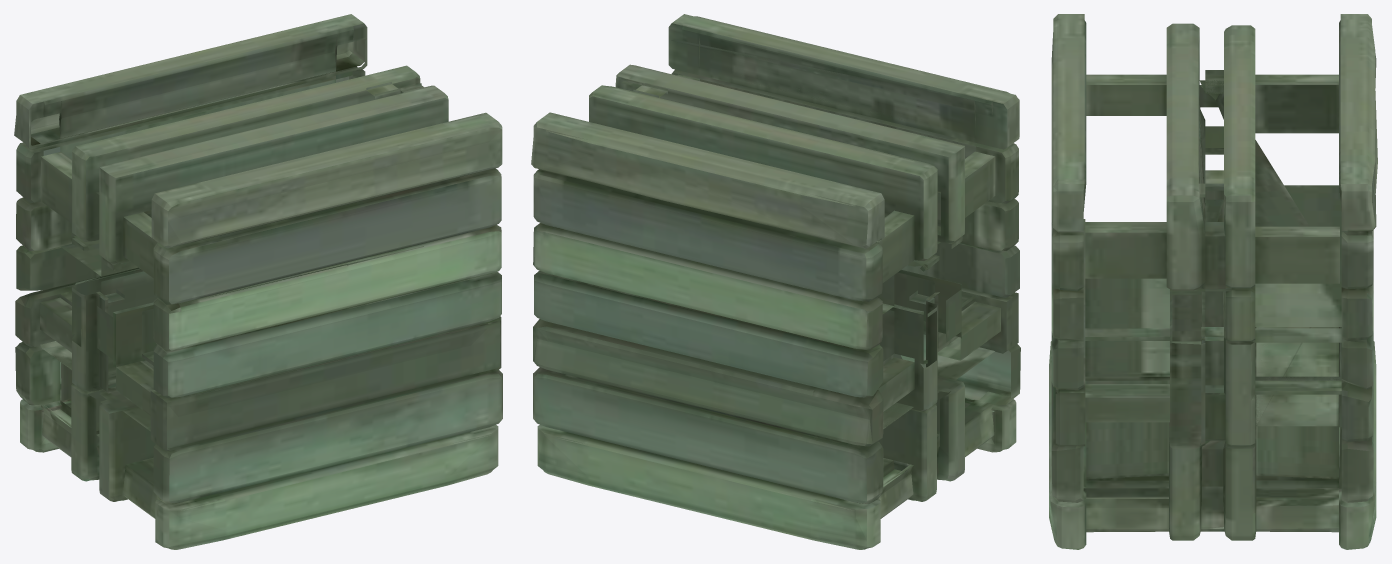
File: wall_stone.glb
The picture shows the model from 3 angles, left to right: view 1: azimuth 30°, elevation 25°; view 2: azimuth 150°, elevation 25°; view 3: azimuth 270°, elevation 25°; orthographic projection. The views are drawn at different scales.
Size of the model in its own units: 1.91 by 1.89 by 1.52.
1 material, 1 textured.
